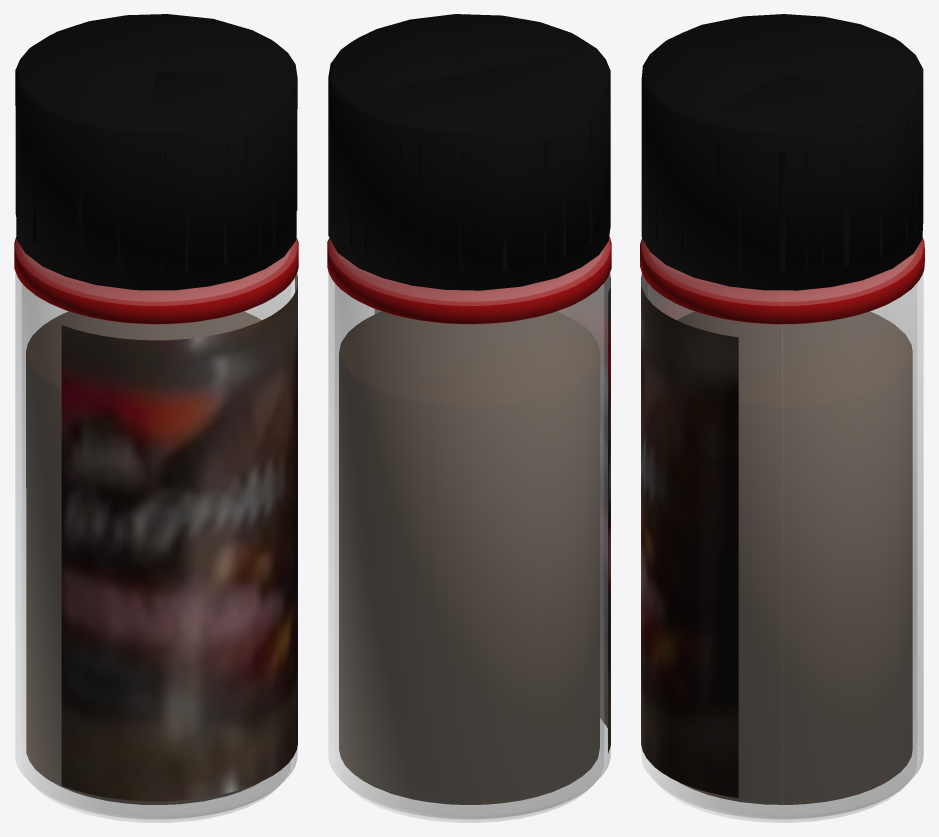
The picture shows the model from 3 angles, left to right: view 1: azimuth 30°, elevation 25°; view 2: azimuth 150°, elevation 25°; view 3: azimuth 270°, elevation 25°; orthographic projection.
Parts seen in each view (by area): view 1: spice_jar__body, spice_jar__cap; view 2: spice_jar__body, spice_jar__cap; view 3: spice_jar__body, spice_jar__cap.
Part boxes in pixels (x1,y1,x2,y2): spice_jar__body: (14,237,298,822); spice_jar__cap: (15,14,297,290); spice_jar__body: (327,236,611,822); spice_jar__cap: (328,14,610,290); spice_jar__body: (640,237,924,822); spice_jar__cap: (641,14,923,290).
Size of the model in its own units: 0.0615 by 0.1657 by 0.0615.
5 materials, 1 textured.
